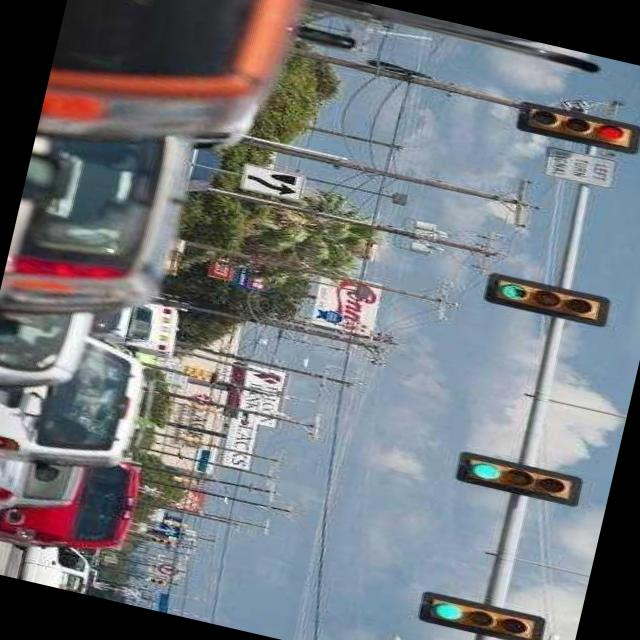green-lights: (411, 577, 472, 640), (480, 267, 538, 323), (455, 455, 510, 493)
red-lights: (587, 115, 640, 156)
